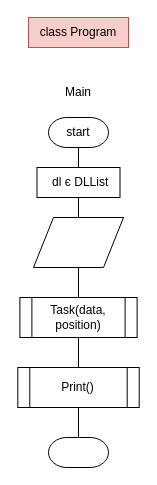
Some shapes in this 157 by 485 pixel diagram are drawn without their labels. Here are the shapes that lost their labels. From the top down, the centre of each, then its label:
the point at 78,242: data, position
the point at 78,452: end
